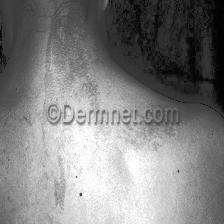Benign Marking or Mole: (45, 11, 95, 102)
